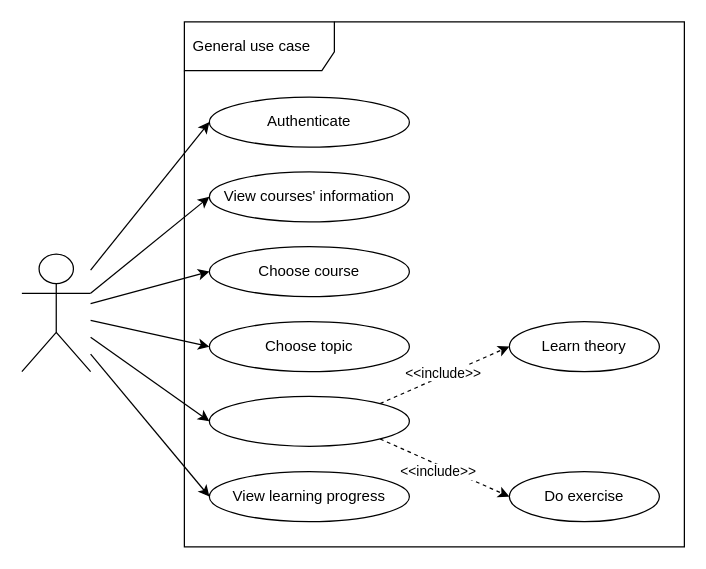
This 706x569 diagram has some shape labels left out. The shapes that lost their labels are listed below. From the top down, each one's box as (x1, y1, x2, y2) in pixels, then its label:
(21, 253, 91, 372): User
(208, 395, 409, 446): Learn lesson
